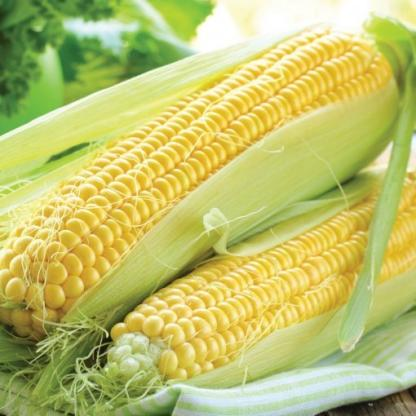---: (0, 25, 397, 328), (101, 154, 416, 399)
